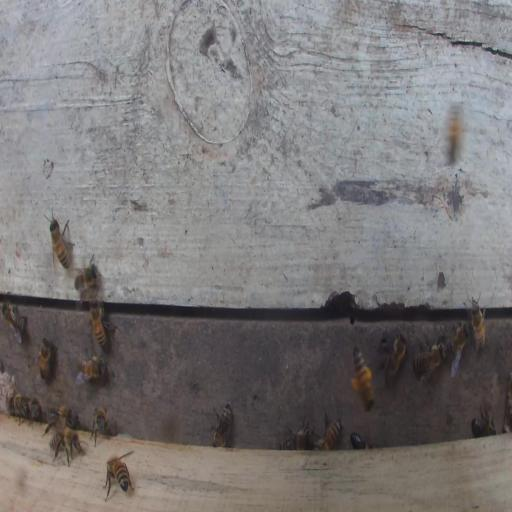nonpollenbee: (45, 210, 74, 270), (89, 296, 116, 353), (49, 426, 85, 467), (103, 452, 133, 500), (413, 341, 446, 383), (1, 301, 28, 346), (384, 333, 407, 384), (450, 321, 470, 378), (469, 291, 486, 356), (315, 412, 343, 451), (74, 252, 98, 297), (280, 419, 314, 450), (212, 401, 233, 448), (76, 353, 108, 383), (42, 404, 71, 436), (37, 337, 56, 381), (90, 406, 110, 447), (471, 408, 496, 437), (9, 393, 29, 417), (350, 431, 367, 449), (30, 398, 41, 423)
pollenbee: (351, 346, 374, 411)
